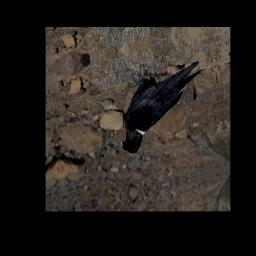Crow: (108, 46, 213, 158)
